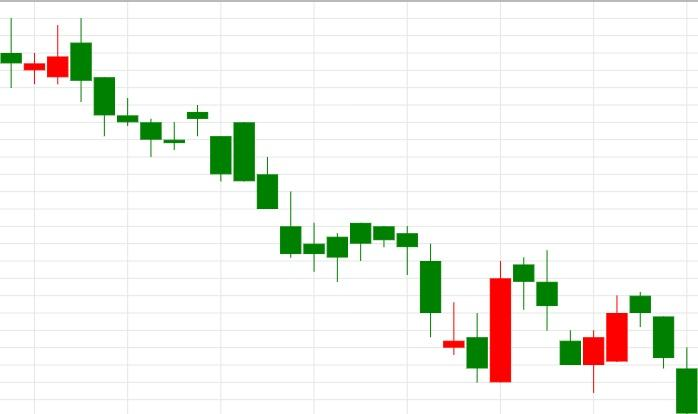bullish_engulfing_rise: (349, 223, 513, 383), (513, 250, 605, 392)
three_black_crows_fall: (466, 250, 582, 383), (582, 291, 698, 414)
